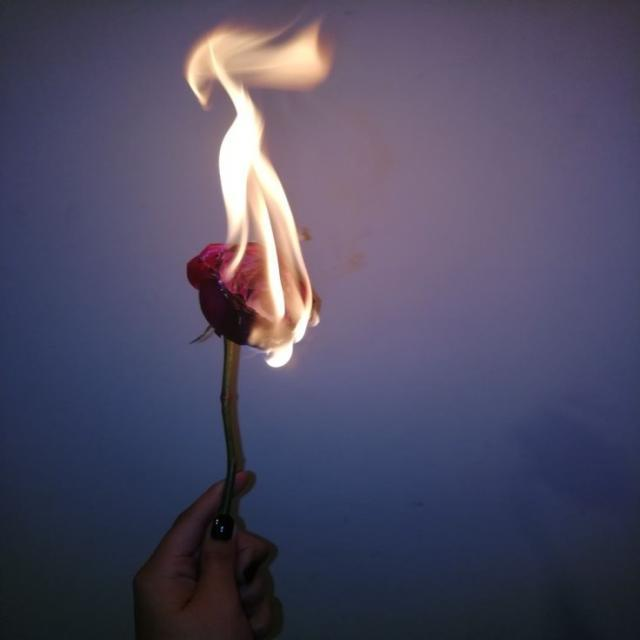Fire: (184, 15, 340, 369)
